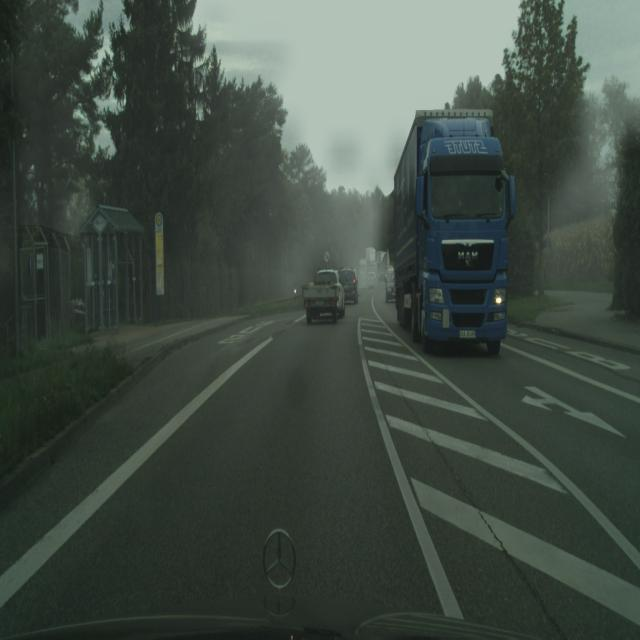car: (392, 108, 516, 357), (302, 268, 346, 325)
person: (338, 268, 359, 304), (385, 266, 396, 303)
